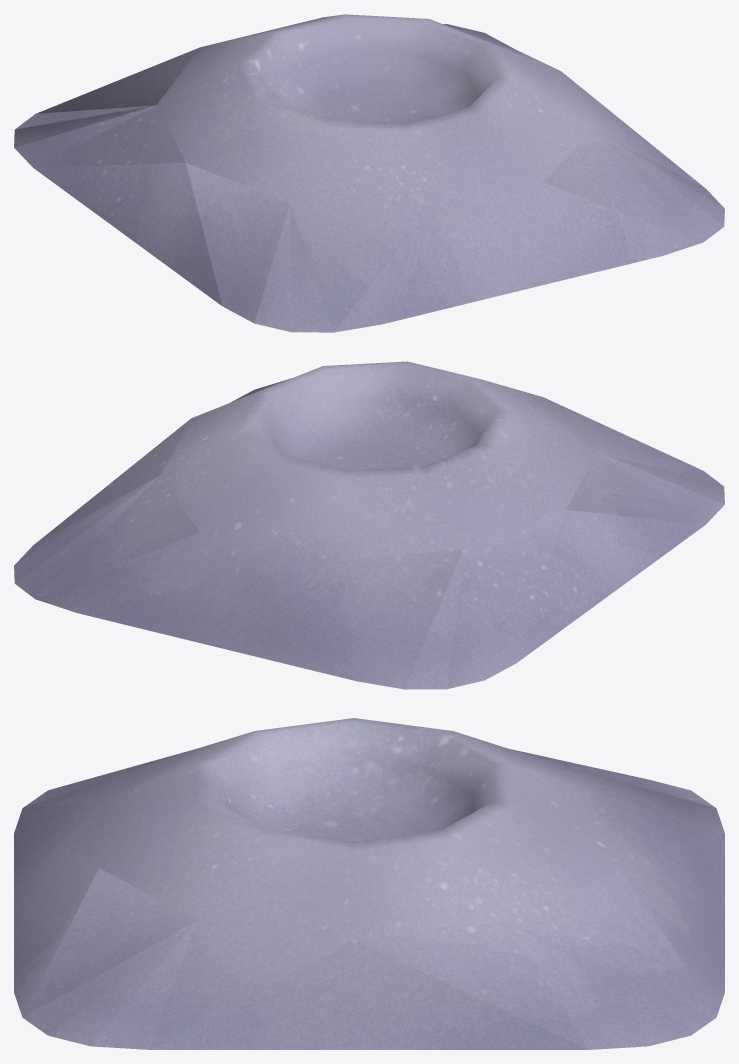
The model's file is 宝宝巴士-飞行器风波-土堆.FBX.
3 views of the same model, one above another, from view 1: azimuth 30°, elevation 25°; view 2: azimuth 150°, elevation 25°; view 3: azimuth 270°, elevation 25° (orthographic). The views are drawn at different scales.
Visible parts, largest first — view 1: 宝宝巴士-飞行器风波-土堆; view 2: 宝宝巴士-飞行器风波-土堆; view 3: 宝宝巴士-飞行器风波-土堆.
Boxes of the visible parts, x1,y1,x2,y2 form: 宝宝巴士-飞行器风波-土堆: [14, 14, 724, 332]; 宝宝巴士-飞行器风波-土堆: [14, 361, 724, 689]; 宝宝巴士-飞行器风波-土堆: [14, 718, 724, 1049].
Size of the model in its own units: 64.95 by 14.41 by 71.24.
